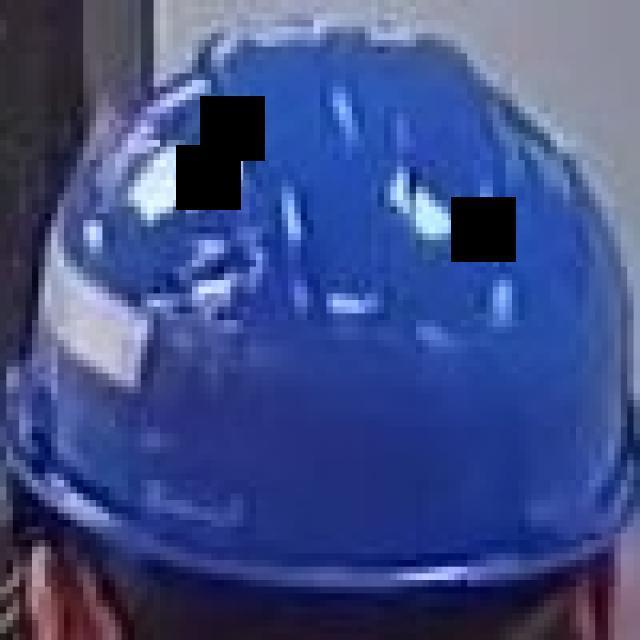blue helmet: (3, 30, 640, 593)
